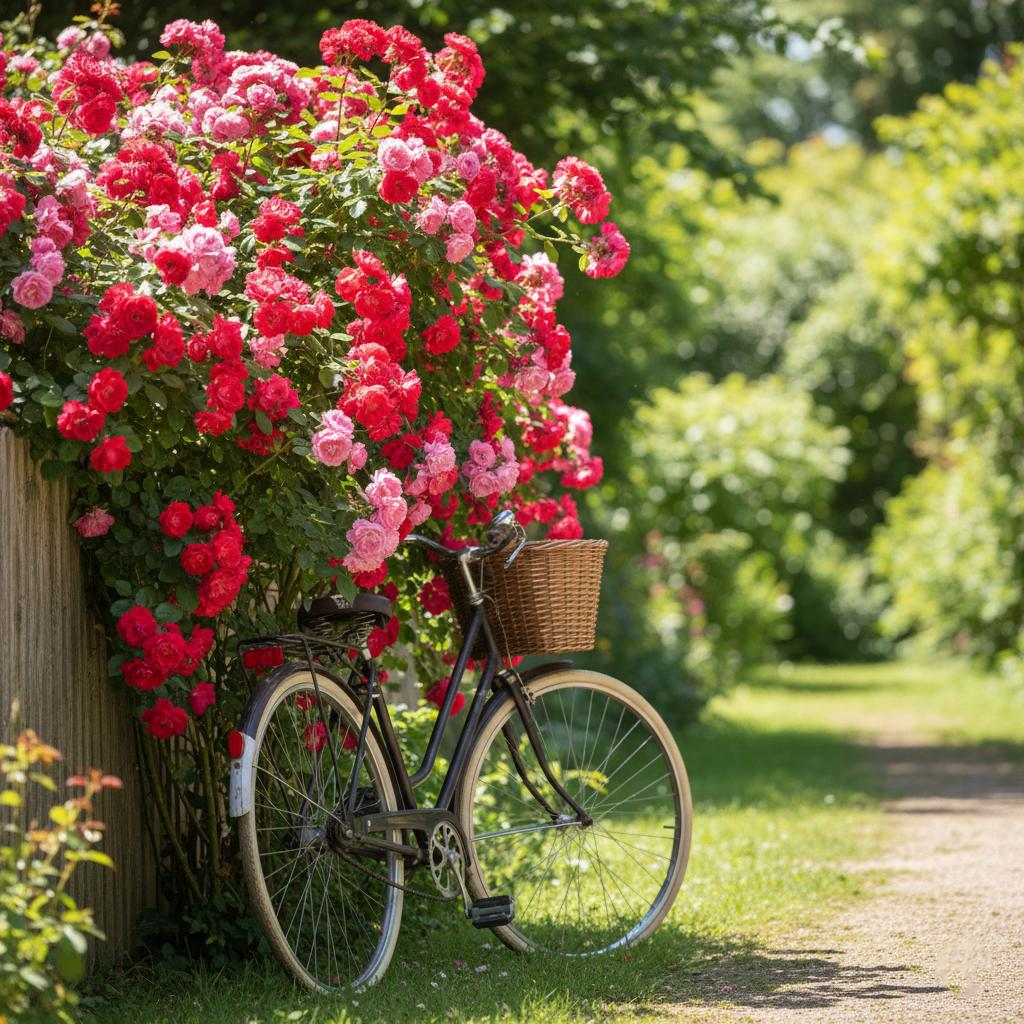rose: (0, 14, 631, 739)
